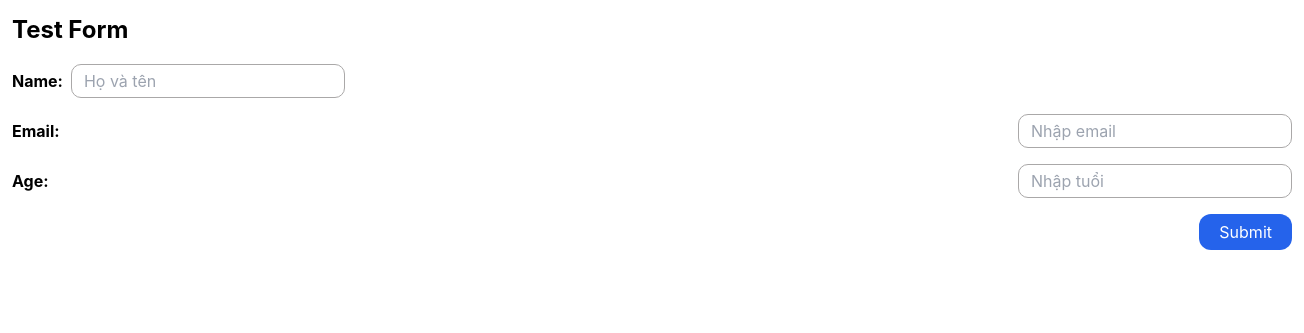
TestForm component › displays required error messages on submit when fields are empty
Click the button "Submit".
click(1246, 232)  # box [1199,214,1292,250]
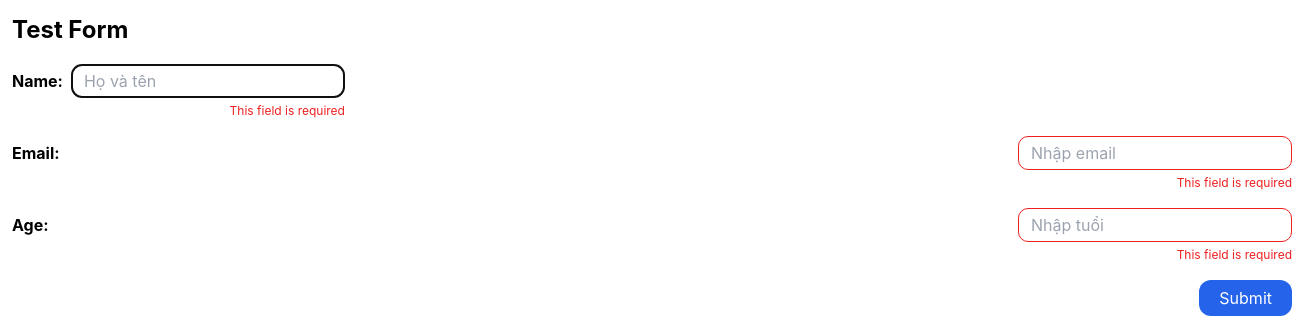
Check: the 3rd text "This field is required" is shown, box [1177,247,1292,262]
